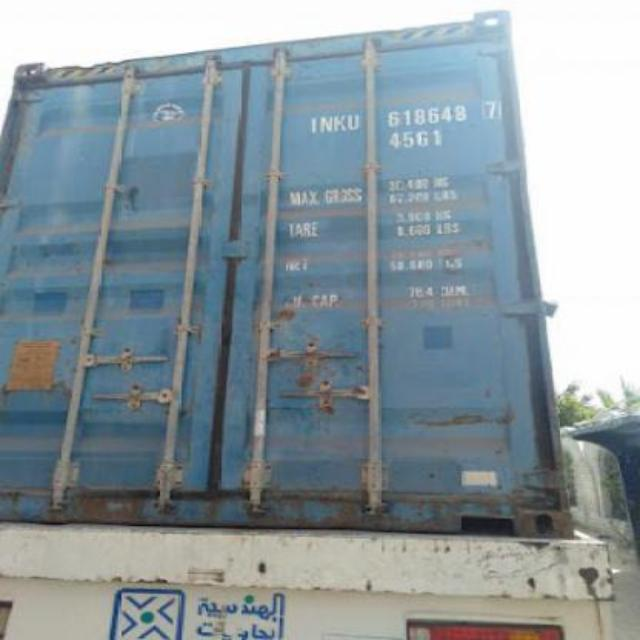1: (402, 108, 414, 128)
4: (441, 105, 454, 125)
6: (428, 104, 442, 128), (386, 109, 399, 129)
7: (481, 100, 502, 120)
8: (454, 104, 468, 125), (414, 106, 426, 128)
I: (308, 117, 320, 137)
K: (334, 114, 348, 132)
N: (321, 113, 334, 137)
U: (346, 112, 362, 134)
